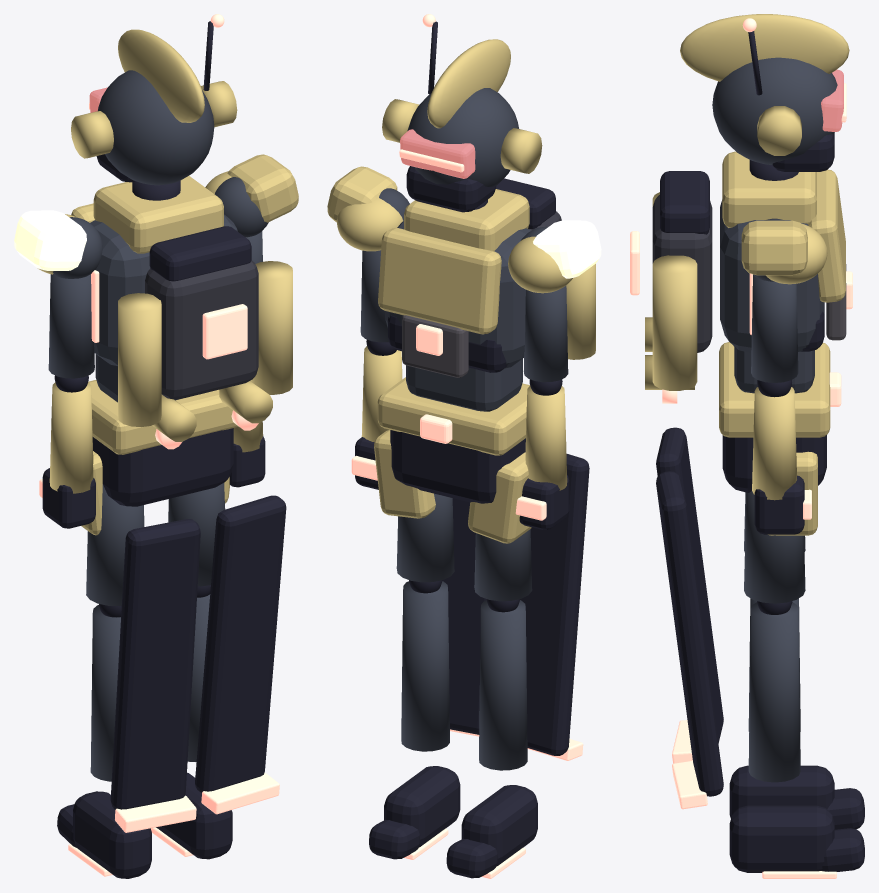
File: skin_gala.glb
The picture shows the model from 3 angles, left to right: view 1: azimuth 30°, elevation 25°; view 2: azimuth 150°, elevation 25°; view 3: azimuth 270°, elevation 25°; orthographic projection. The views are drawn at different scales.
Visible parts, largest first — view 1: CoatL, CoatR, Backpack, Helmet, Hips, Collar, TankL, TankR, LeftBoot, HelmetCrest, LeftArm, LeftForearm (+26 smaller); view 2: CoatL, ChestPlate, RightShin, LeftShin, CoatR, Hips, Belt, Helmet, Collar, RightLeg, RightBoot, LeftBoot (+30 smaller); view 3: CoatR, RightShin, Helmet, HelmetCrest, RightBoot, TankR, Collar, Torso, Belt, RightArm, RightLeg, RightForearm (+22 smaller).
Boxes of the visible parts, x1,y1,x2,y2 form: CoatL: [110, 519, 200, 809]; CoatR: [195, 495, 286, 792]; Backpack: [145, 260, 258, 399]; Helmet: [98, 70, 214, 185]; Hips: [92, 428, 233, 506]; Collar: [93, 176, 223, 253]; TankL: [118, 293, 161, 426]; TankR: [250, 261, 292, 394]; LeftBoot: [73, 791, 151, 878]; HelmetCrest: [118, 29, 204, 122]; LeftArm: [48, 274, 94, 378]; LeftForearm: [49, 382, 93, 493]; CoatL: [520, 454, 589, 755]; ChestPlate: [378, 228, 501, 334]; RightShin: [401, 581, 449, 751]; LeftShin: [479, 600, 527, 770]; CoatR: [442, 498, 486, 734]; Hips: [390, 430, 525, 503]; Belt: [377, 377, 529, 455]; Helmet: [407, 88, 518, 186]; Collar: [404, 189, 529, 251]; RightLeg: [396, 493, 454, 582]; RightBoot: [384, 766, 460, 847]; LeftBoot: [461, 785, 537, 865]; CoatR: [656, 471, 723, 796]; RightShin: [748, 602, 800, 782]; Helmet: [712, 57, 837, 164]; HelmetCrest: [680, 14, 849, 81]; RightBoot: [729, 805, 834, 872]; TankR: [652, 255, 697, 390]; Collar: [722, 151, 816, 227]; Torso: [720, 200, 824, 353]; Belt: [719, 342, 830, 437]; RightArm: [751, 275, 798, 382]; RightLeg: [744, 491, 805, 603]; RightForearm: [752, 387, 796, 500].
Size of the model in its own units: 0.619 by 1.89 by 0.4708.
